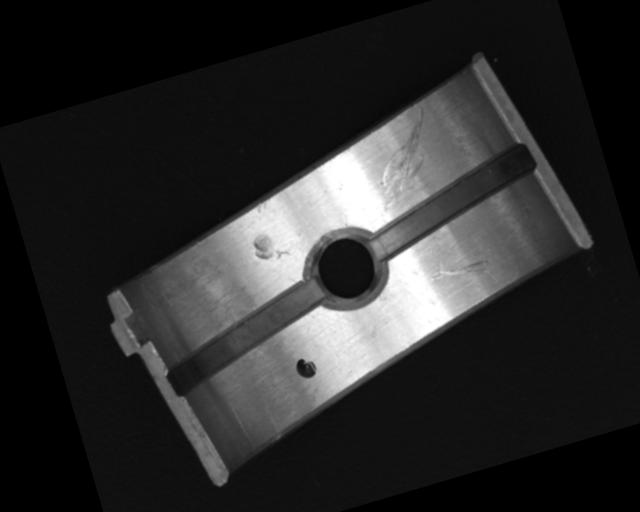blot: (292, 354, 319, 381)
bruise: (250, 226, 290, 264), (253, 198, 274, 215)
gap: (354, 140, 548, 260), (154, 277, 337, 399)
hole: (301, 221, 394, 318)
nick: (356, 107, 447, 216), (427, 253, 491, 286)
